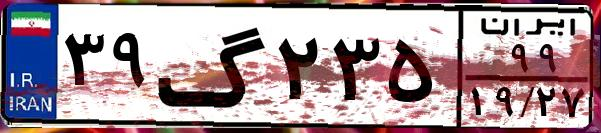1: (470, 70, 495, 125)
2: (270, 28, 330, 110), (535, 70, 560, 125)
3: (330, 28, 385, 110), (57, 26, 110, 100)
5: (385, 28, 445, 110)
7: (560, 70, 590, 125)
9: (110, 28, 156, 98), (537, 27, 568, 80), (508, 27, 537, 80), (495, 70, 520, 125)
گ: (156, 12, 270, 120)
